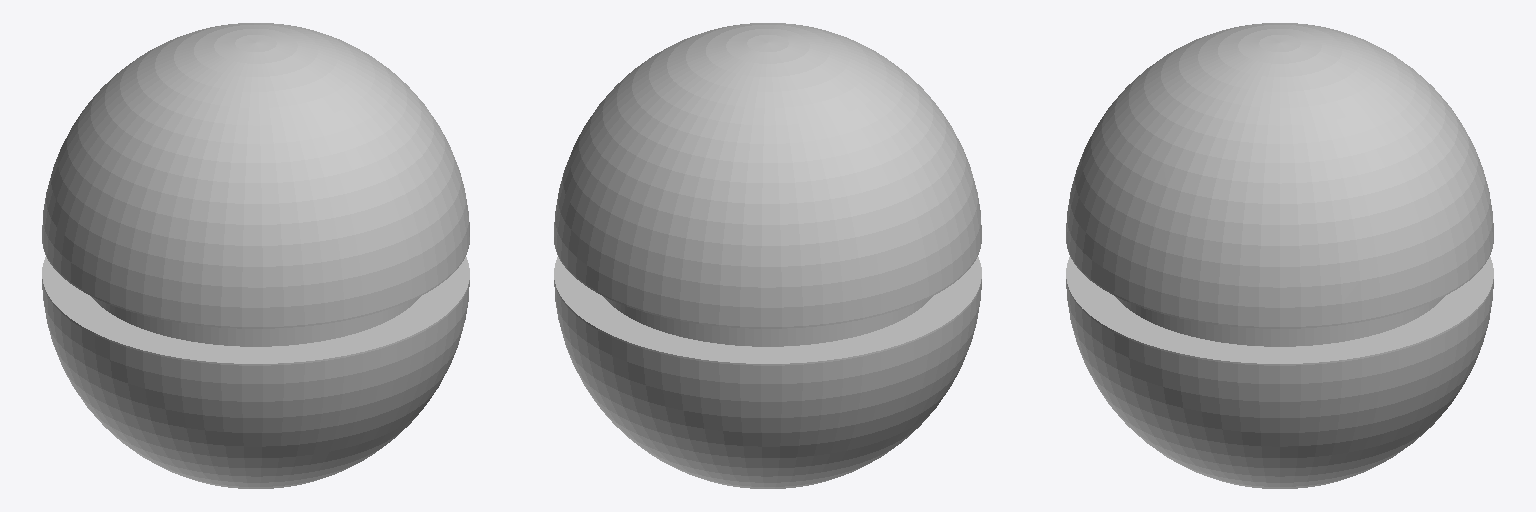
File: droid_anim_000008.obj
The picture shows the model from 3 angles: view 1: azimuth 30°, elevation 25°; view 2: azimuth 150°, elevation 25°; view 3: azimuth 270°, elevation 25°; orthographic projection.
Visible parts, largest first — view 1: Sphere.004, Sphere.005, Cylinder.002; view 2: Sphere.004, Sphere.005, Cylinder.002; view 3: Sphere.004, Sphere.005, Cylinder.002.
Boxes of the visible parts, box(x1,y1,x2,y2) form: Sphere.004: box(42, 23, 469, 328); Sphere.005: box(42, 257, 469, 488); Cylinder.002: box(91, 296, 420, 346); Sphere.004: box(554, 23, 981, 328); Sphere.005: box(554, 257, 981, 488); Cylinder.002: box(603, 296, 932, 346); Sphere.004: box(1066, 23, 1493, 328); Sphere.005: box(1066, 257, 1493, 488); Cylinder.002: box(1115, 296, 1444, 346).
Bounding box in the file's own units: 2 × 2.2 × 2.